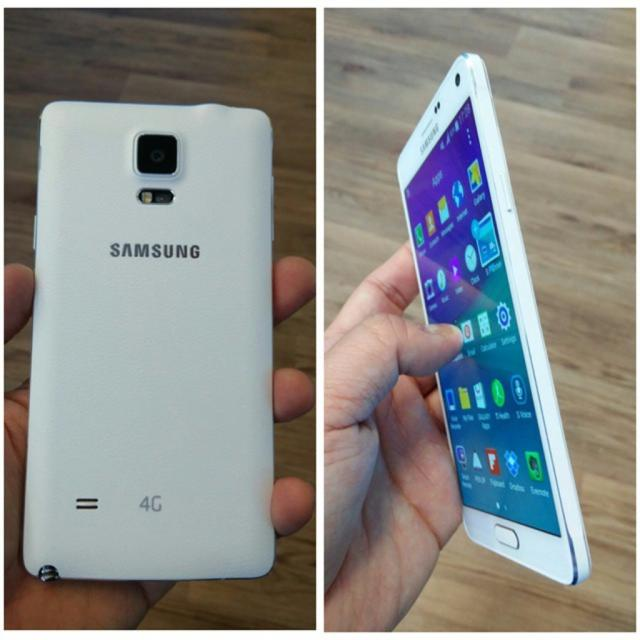Mobile-phone: (12, 108, 280, 605), (392, 52, 592, 586)
